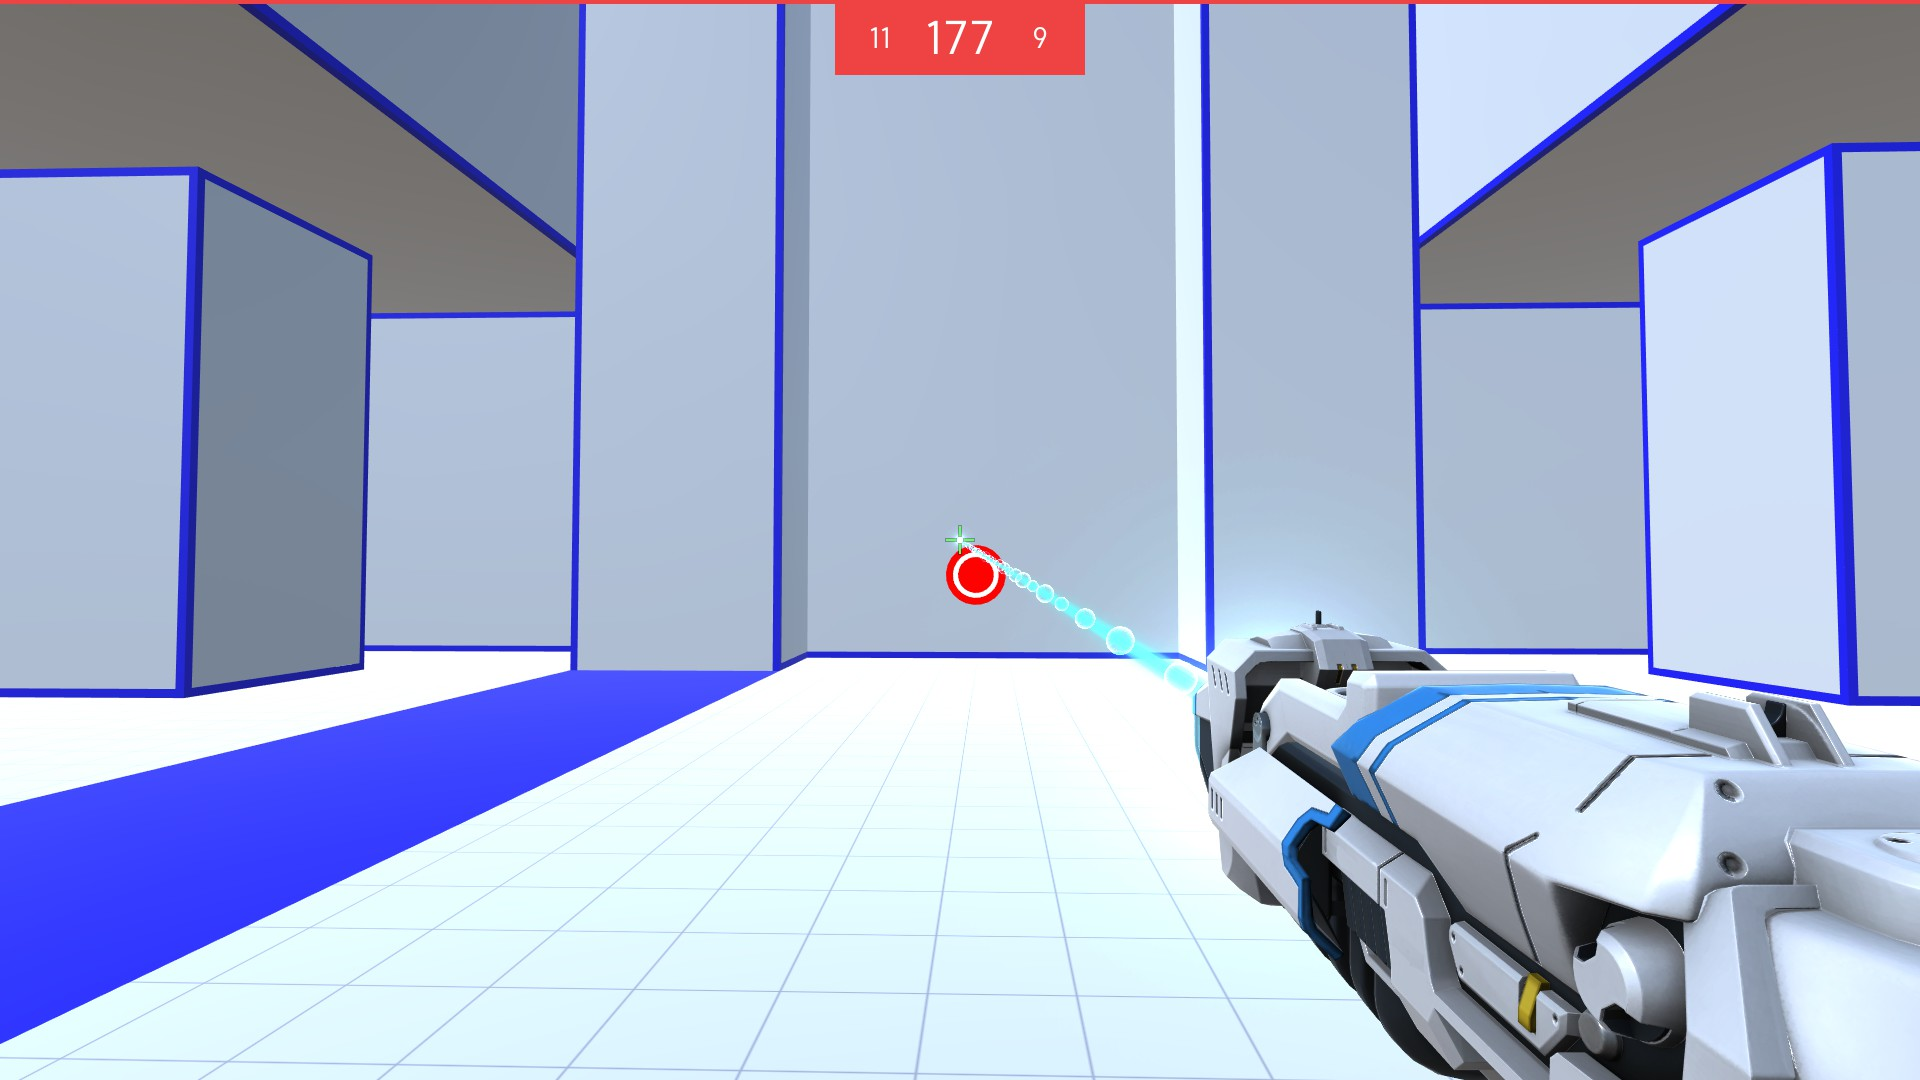target: (945, 545, 1007, 607)
